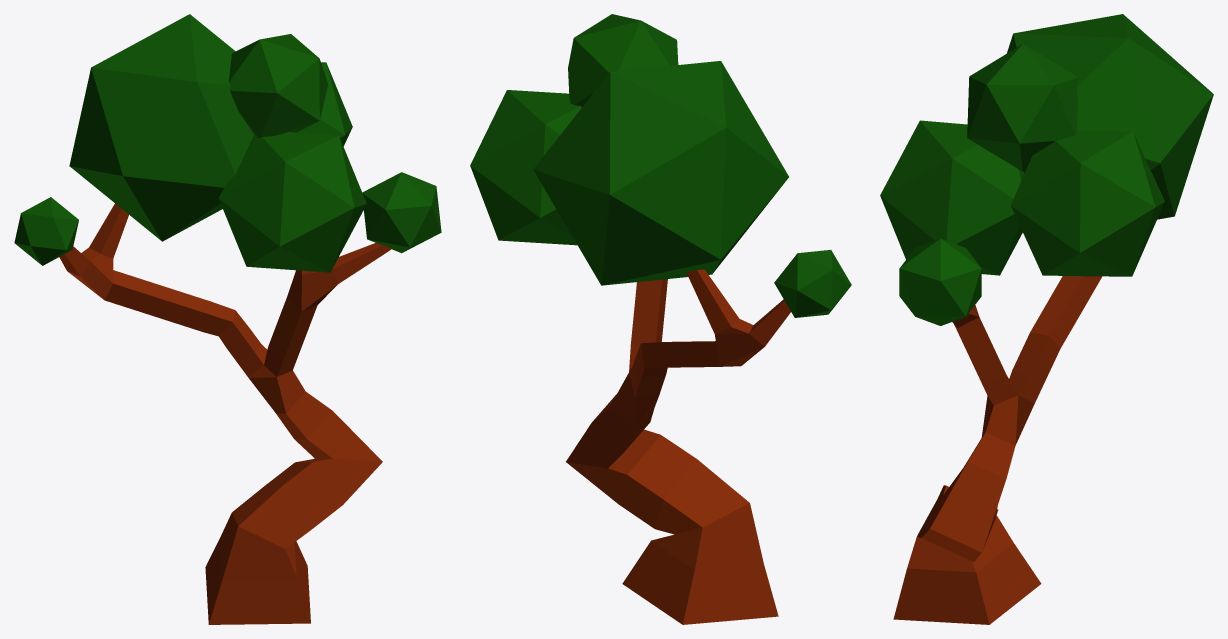
The model's file is tree_round1.glb.
3 views of the same model, side by side, from view 1: azimuth 30°, elevation 25°; view 2: azimuth 150°, elevation 25°; view 3: azimuth 270°, elevation 25° (orthographic). The views are drawn at different scales.
Parts seen in each view (by area): view 1: tree_round1; view 2: tree_round1; view 3: tree_round1.
Boxes of the visible parts, x1=… form: tree_round1: x1=14, y1=14, x2=441, y2=624; tree_round1: x1=470, y1=14, x2=851, y2=624; tree_round1: x1=880, y1=14, x2=1213, y2=624.
Bounding box in the file's own units: 0.8052 × 1.19 × 0.6216.
